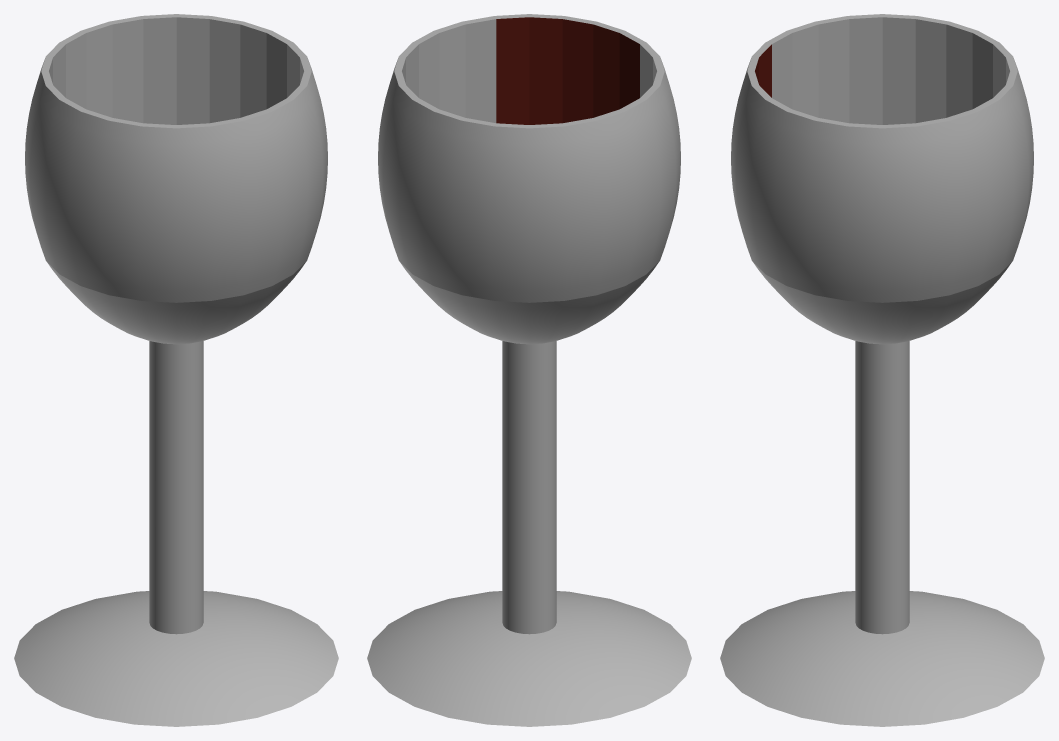
Rendered from CopaVacia.fbx.
3 renders of one model, left to right at view 1: azimuth 30°, elevation 25°; view 2: azimuth 150°, elevation 25°; view 3: azimuth 270°, elevation 25°, orthographic.
Visible parts, largest first — view 1: Model; view 2: Model; view 3: Model.
Boxes of the visible parts, left/top/right/bottom form: Model: left=14, top=14, right=338, bottom=726; Model: left=367, top=14, right=691, bottom=726; Model: left=720, top=14, right=1044, bottom=726.
Bounding box in the file's own units: 0.06 × 0.1197 × 0.06.
